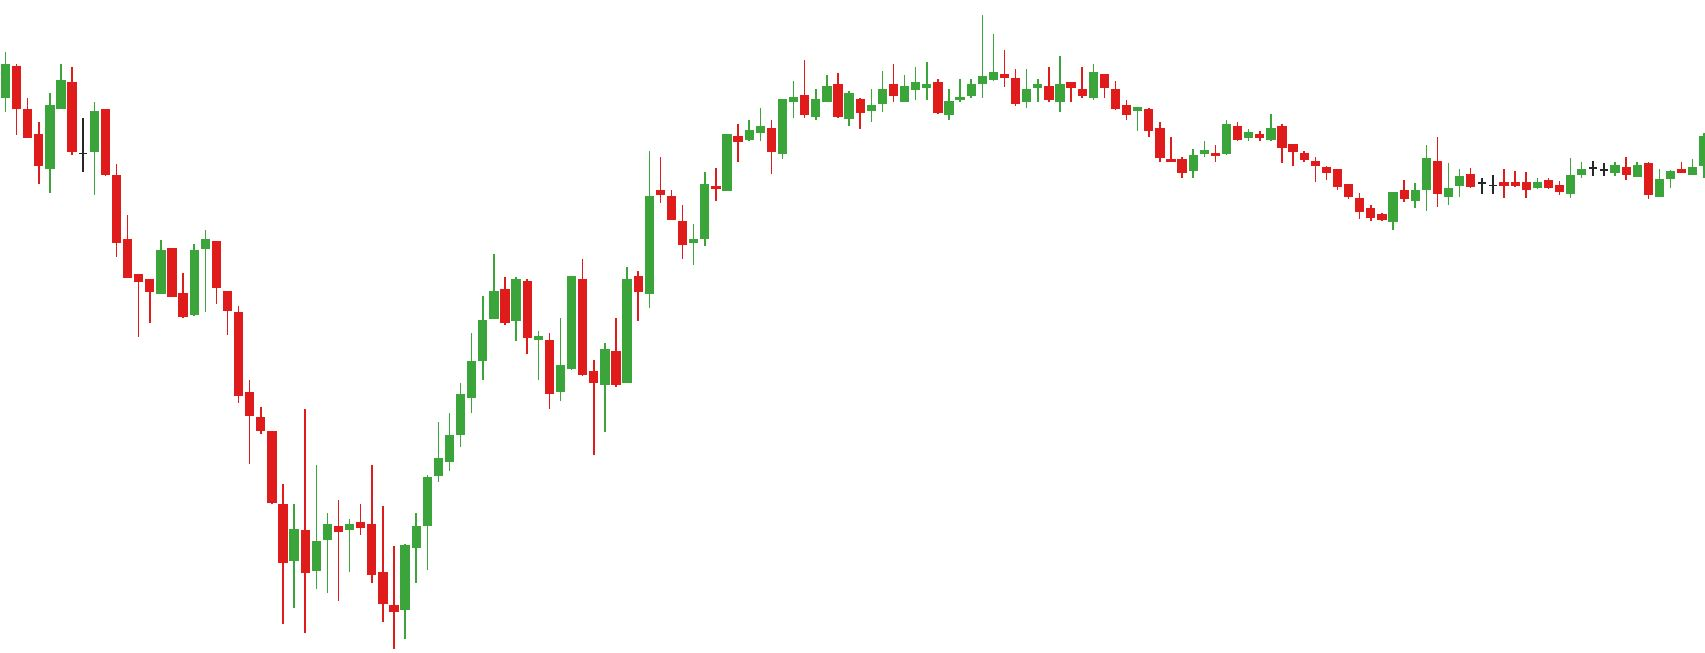buy: (287, 489, 410, 649), (542, 314, 599, 465)
